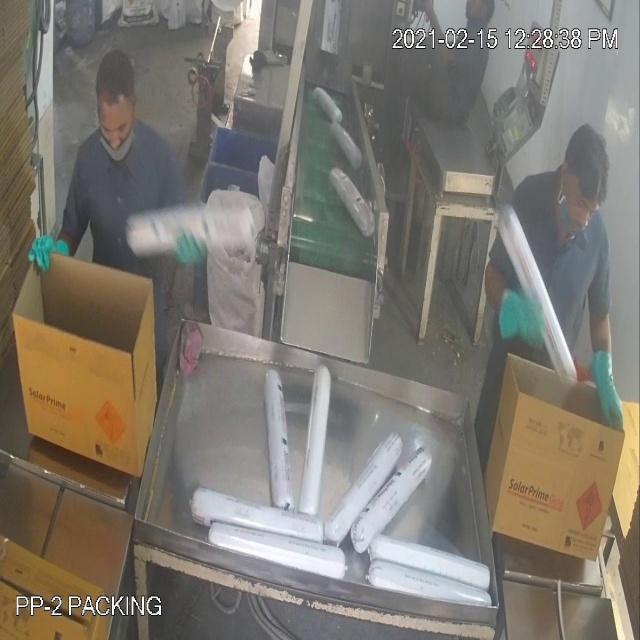Guantes: (483, 256, 548, 363), (584, 318, 627, 444), (20, 226, 76, 284)
Sin_guantes: (403, 1, 462, 76)
